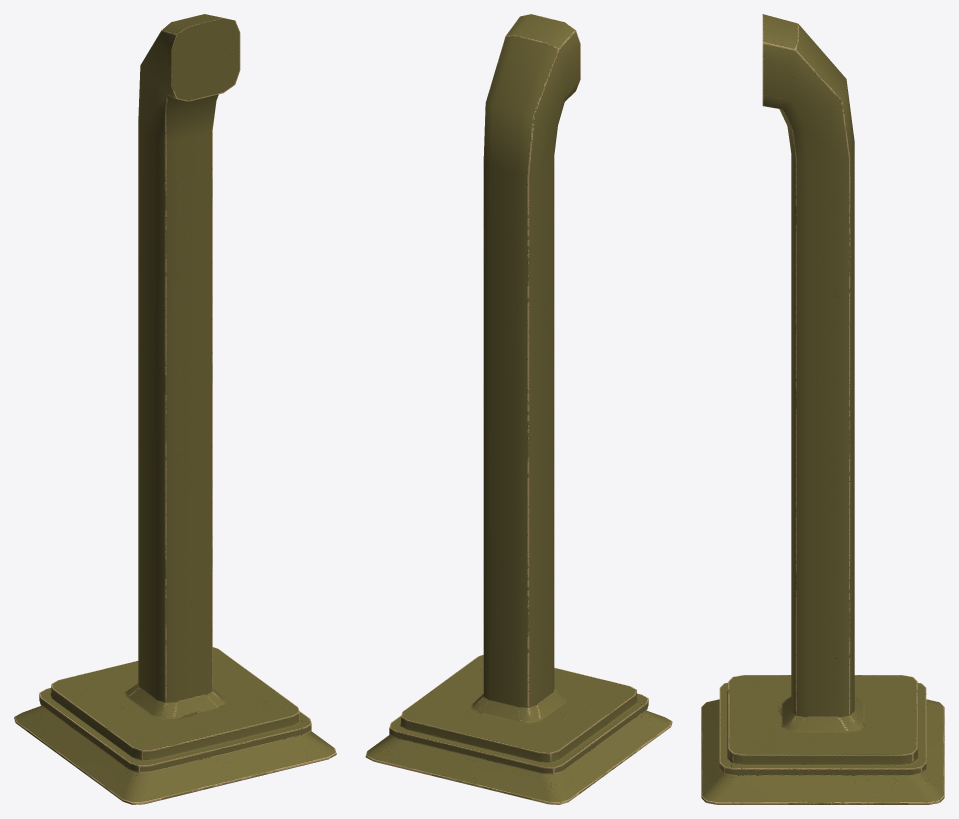
The model's file is ratatingLeverBasePre.glb.
The picture shows the model from 3 angles, left to right: view 1: azimuth 30°, elevation 25°; view 2: azimuth 150°, elevation 25°; view 3: azimuth 270°, elevation 25°; orthographic projection. The views are drawn at different scales.
Parts seen in each view (by area): view 1: Mesh_1; view 2: Mesh_1; view 3: Mesh_1.
Boxes of the visible parts, x1,y1,x2,y2 form: Mesh_1: (14,14,336,804); Mesh_1: (365,14,672,804); Mesh_1: (701,14,944,804).
Bounding box in the file's own units: 0.1938 × 0.6424 × 0.1938.
1 material, 1 textured.
